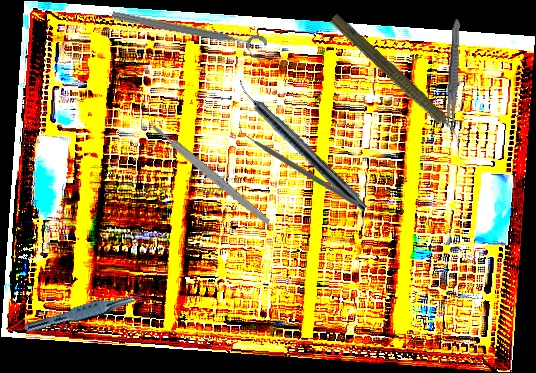Chopper: (239, 121, 359, 206)
Dressing Forceps: (445, 18, 462, 133)
Fixation Ring: (109, 7, 268, 62)
Handpiece: (324, 10, 471, 150), (231, 77, 372, 214)
Scalpel Handle: (150, 122, 272, 227)
Tissue Forceps: (23, 284, 149, 341)
